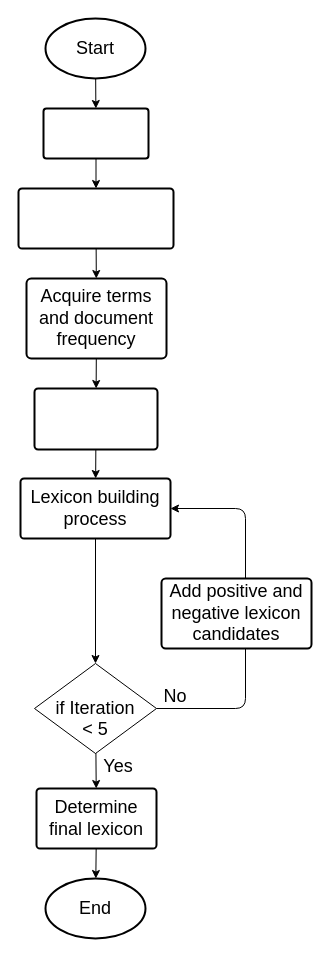
This 329x956 diagram has some shape labels left out. Here are the shapes that lost their labels. From the top down, the centre of each, then its label:
At (95,133): "Analyse news portal".
At (95,218): "Crawl pages and collect articles".
At (95,418): "Determine seed words".
